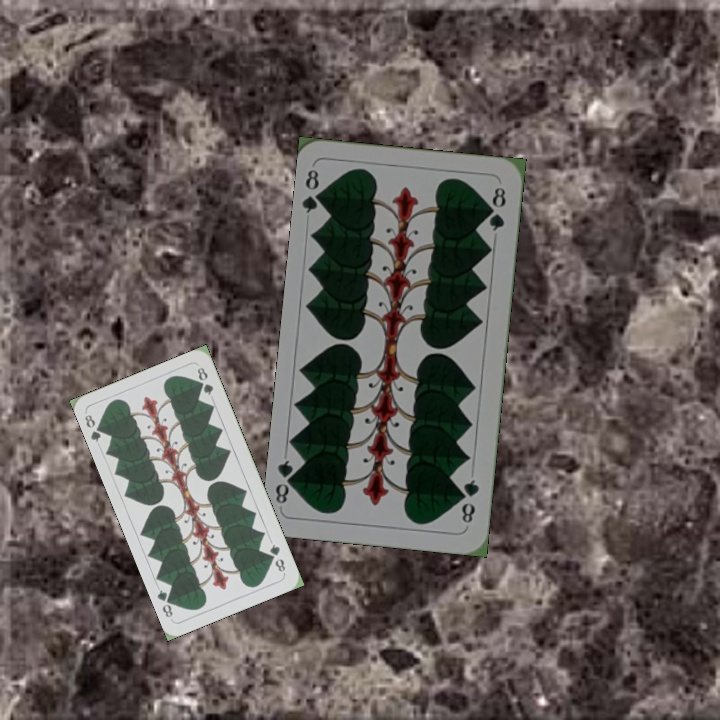G8: (299, 165, 328, 216), (457, 475, 482, 526), (80, 410, 107, 445), (265, 540, 288, 576)
